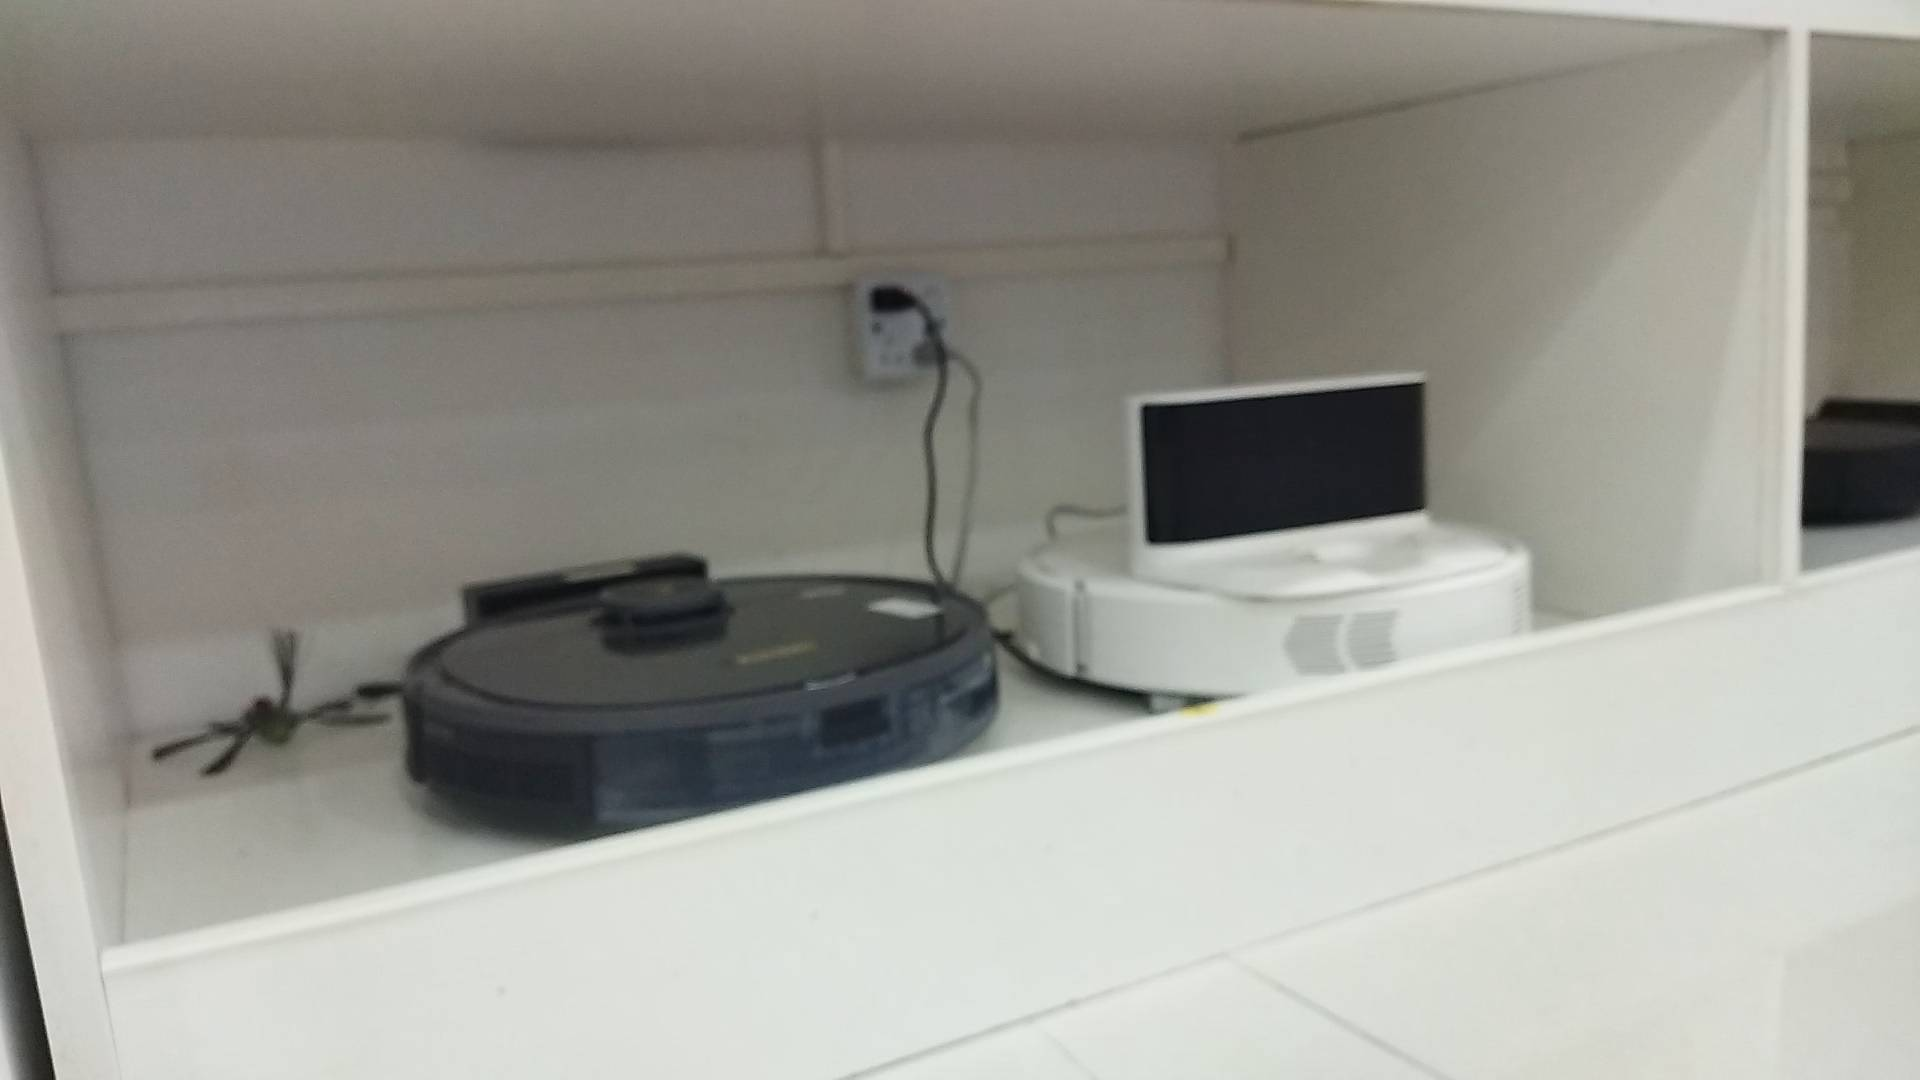recharge seat: (1127, 371, 1509, 597)
